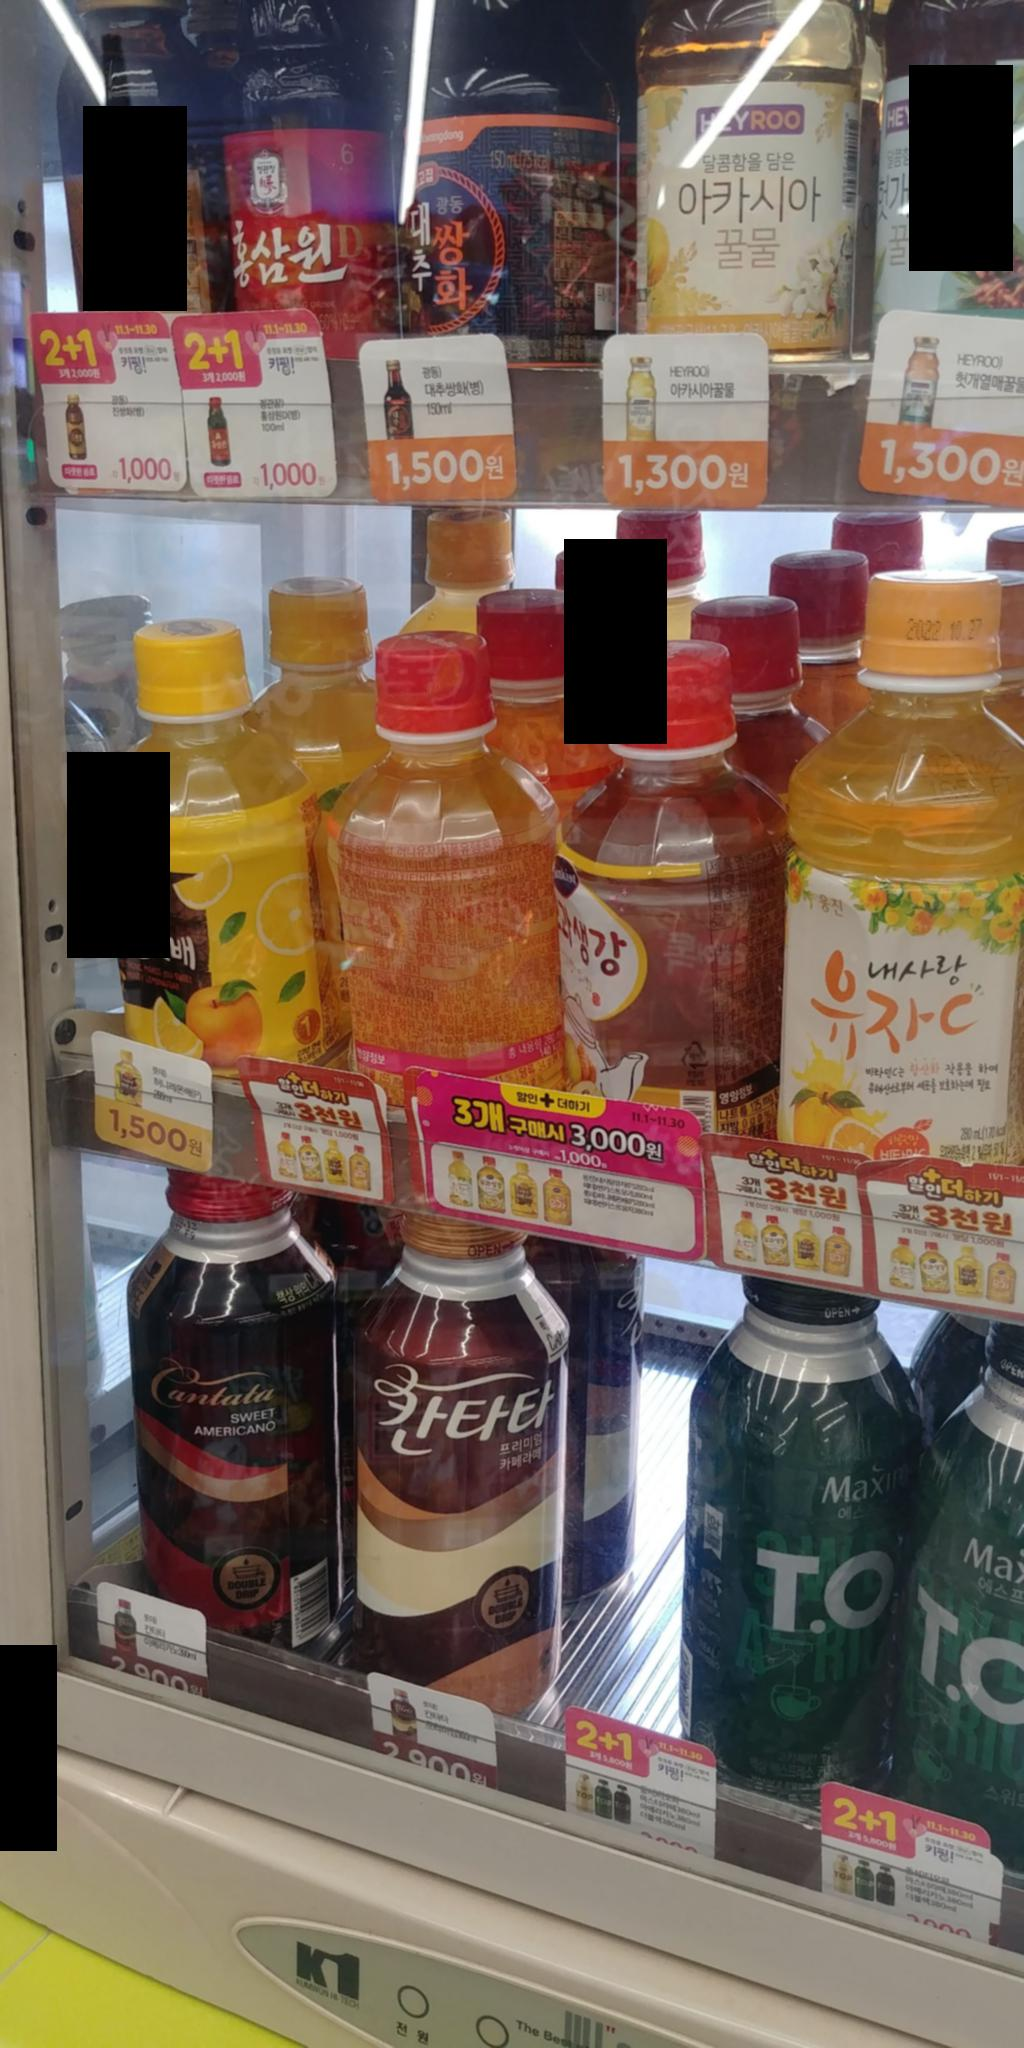honeyyuja: (342, 576, 542, 1054)
